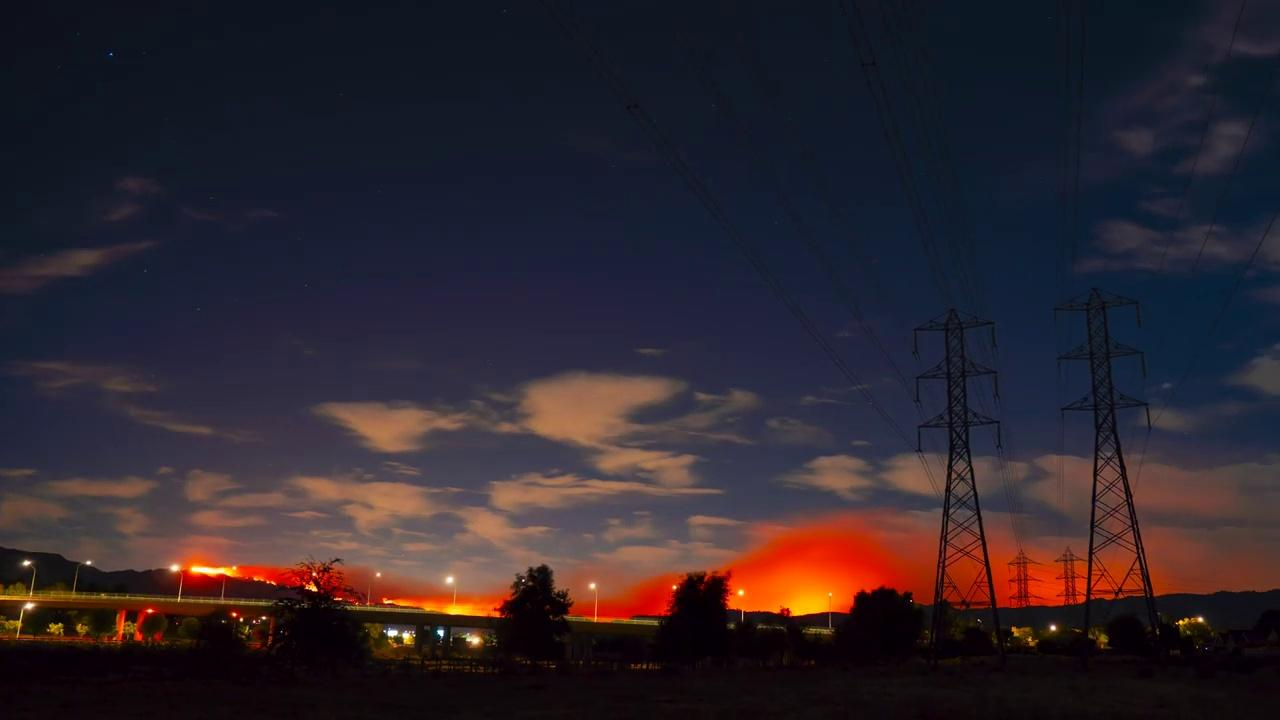fire: (398, 594, 506, 618), (174, 558, 258, 586), (774, 588, 840, 614)
